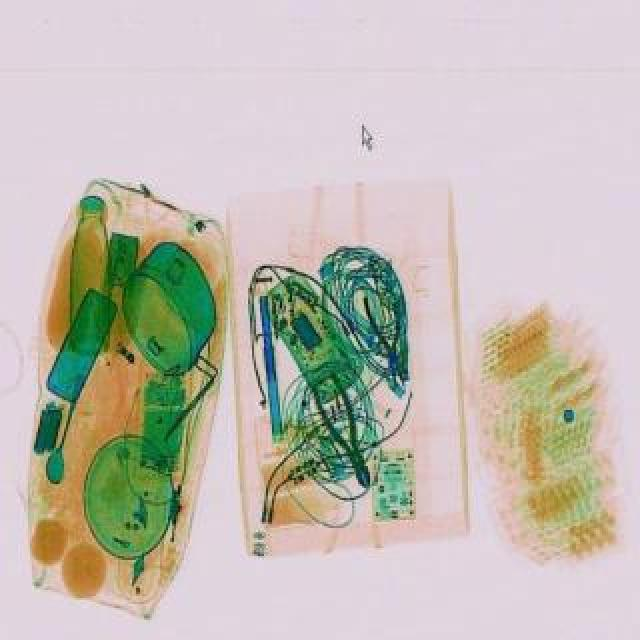wrench: (304, 368, 382, 490), (360, 288, 416, 388)
